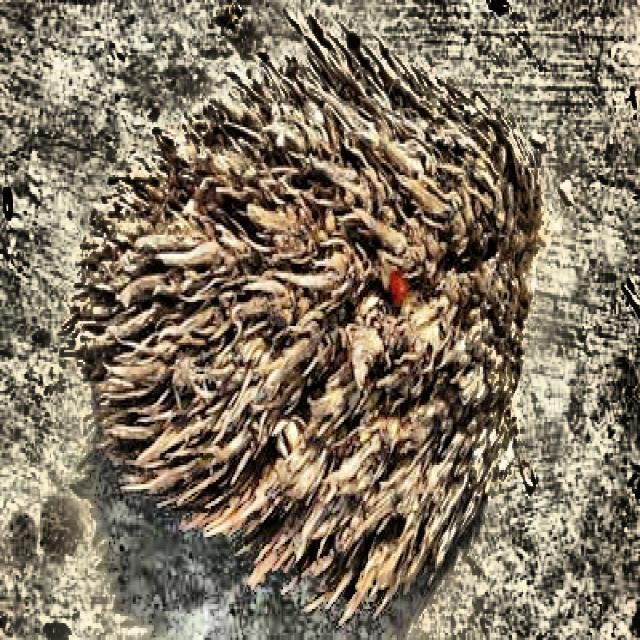FFB: (83, 34, 544, 625)
